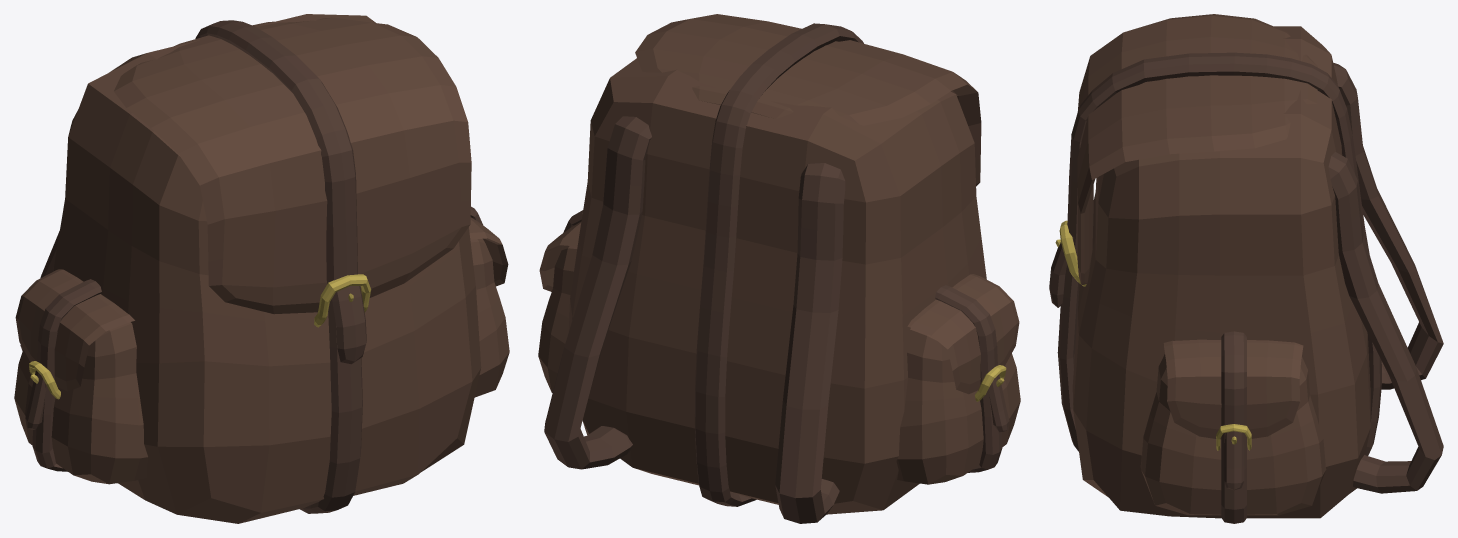
The model's file is Backpack.glb.
The picture shows the model from 3 angles, left to right: view 1: azimuth 30°, elevation 25°; view 2: azimuth 150°, elevation 25°; view 3: azimuth 270°, elevation 25°; orthographic projection. The views are drawn at different scales.
Parts seen in each view (by area): view 1: Backpack_eaa23d, Backpack_2115f1, Backpack_c7763e; view 2: Backpack_eaa23d, Backpack_2115f1; view 3: Backpack_eaa23d, Backpack_2115f1, Backpack_c7763e.
Boxes of the visible parts, x1,y1,x2,y2 form: Backpack_eaa23d: [14, 14, 509, 523]; Backpack_2115f1: [20, 20, 482, 513]; Backpack_c7763e: [29, 274, 371, 399]; Backpack_eaa23d: [538, 14, 1020, 514]; Backpack_2115f1: [544, 23, 1009, 523]; Backpack_eaa23d: [1072, 14, 1370, 518]; Backpack_2115f1: [1049, 52, 1443, 523]; Backpack_c7763e: [1055, 220, 1251, 450].
Bounding box in the file's own units: 0.8982 × 0.8 × 0.6764.
